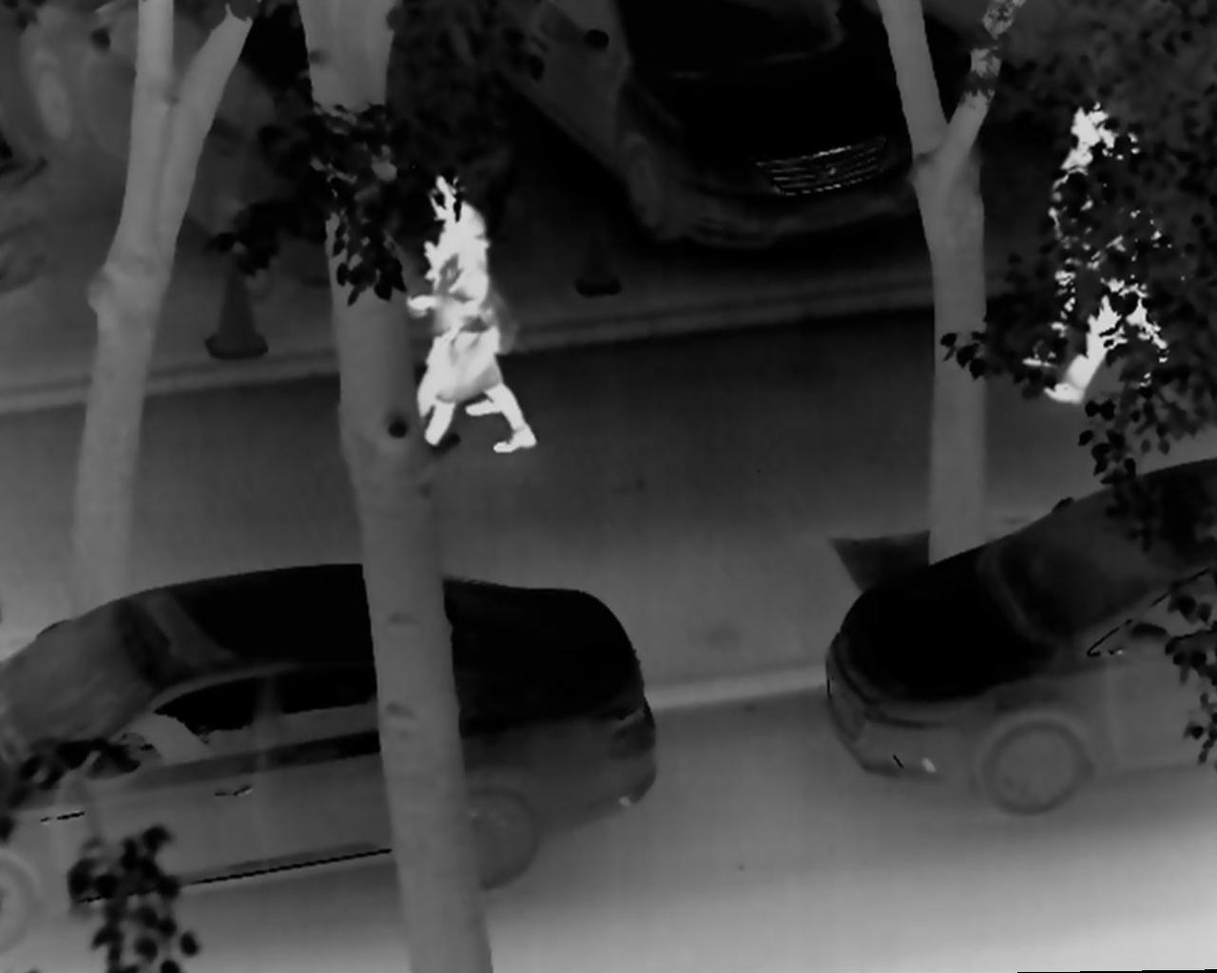person: (1041, 123, 1209, 410), (1023, 101, 1161, 383), (385, 157, 516, 426), (406, 202, 536, 460)
